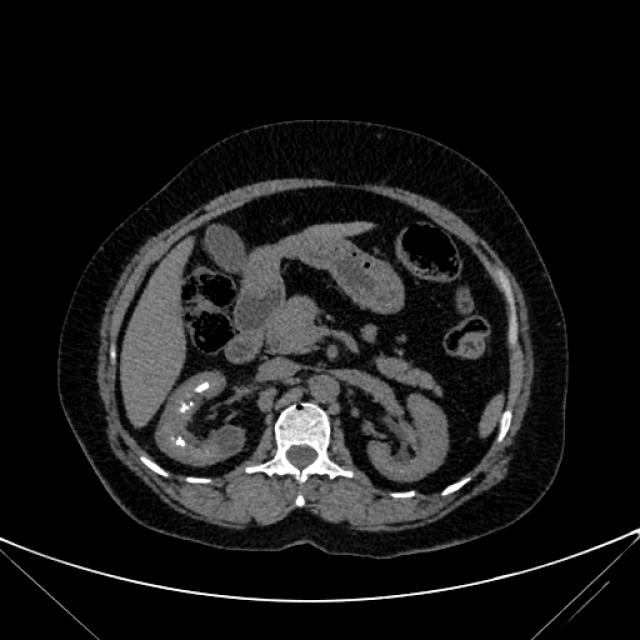kidney: (158, 374, 239, 461), (378, 395, 441, 477)
stone: (196, 384, 207, 390), (180, 404, 188, 412), (177, 438, 184, 446), (190, 402, 193, 407), (172, 438, 175, 440)
